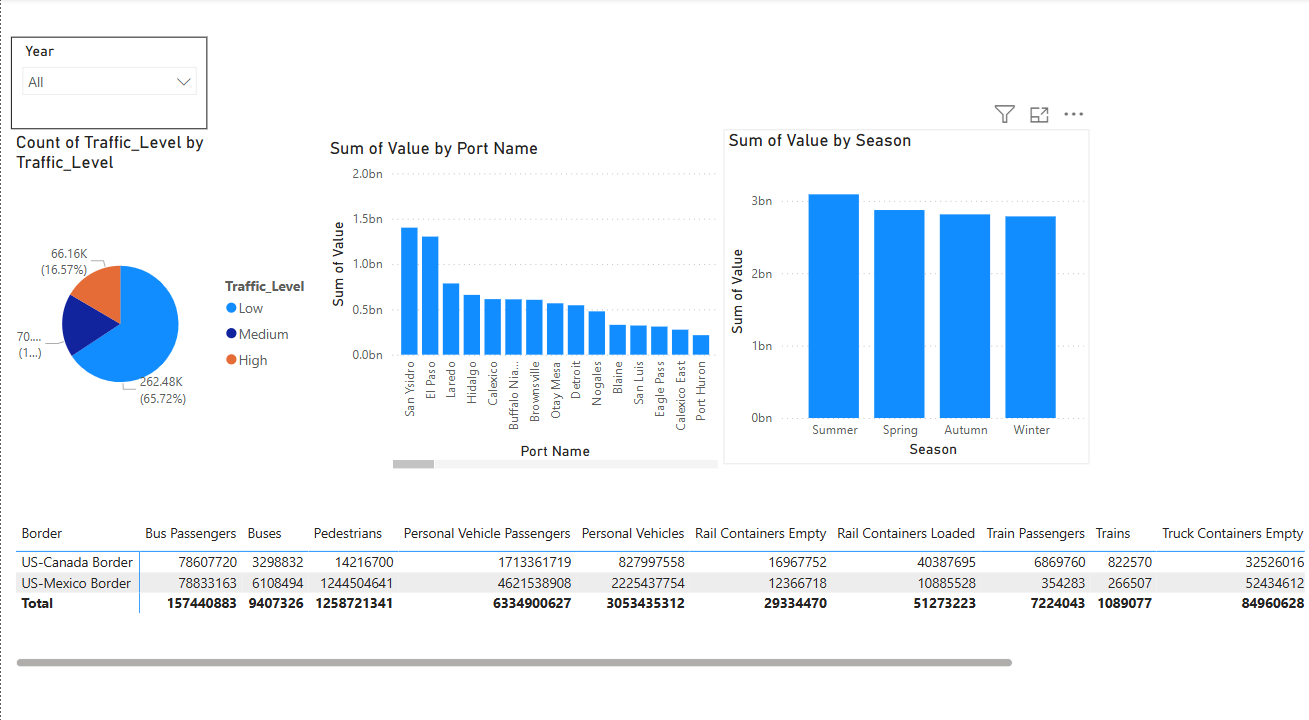

The dashboard page shown, as its layout file describes it:
{"tool":"powerbi","page":{"name":"Page 1","canvas":[1280,720],"ordinal":0},"visuals":[{"type":"pieChart","fields":{"Category":["etl_pipeline border_crossing_data.Traffic_Level"],"Y":["CountNonNull(etl_pipeline border_crossing_data.Traffic_Level)"]},"box":[9.6,130.4,307.4,334.8],"z":0},{"type":"columnChart","fields":{"Category":["etl_pipeline border_crossing_data.Port Name"],"Y":["Sum(etl_pipeline border_crossing_data.Value)"]},"box":[317,137.2,389.7,328],"z":2},{"type":"pivotTable","fields":{"Rows":["etl_pipeline border_crossing_data.Border"],"Columns":["etl_pipeline border_crossing_data.Measure"],"Values":["Sum(etl_pipeline border_crossing_data.Value)"]},"box":[9.6,507.7,1270.7,152.3],"z":3},{"type":"columnChart","fields":{"Category":["etl_pipeline border_crossing_data.Season"],"Y":["Sum(etl_pipeline border_crossing_data.Value)"]},"box":[706.7,129,358.1,326.6],"z":4},{"type":"slicer","fields":{"Values":["etl_pipeline border_crossing_data.Year"]},"box":[9.6,38.4,192.1,90.6],"z":5}]}

Visuals, with their boxes in screenshot pixels (x1, y1, x2, y2), scaled from the page's 1280x720 canvas onto the 1309x720 screenshot:
pieChart - etl_pipeline border_crossing_data.Traffic_Level x CountNonNull(etl_pipeline border_crossing_data.Traffic_Level): x1=10 y1=130 x2=324 y2=465
columnChart - etl_pipeline border_crossing_data.Port Name x Sum(etl_pipeline border_crossing_data.Value): x1=324 y1=137 x2=723 y2=465
pivotTable - etl_pipeline border_crossing_data.Border x etl_pipeline border_crossing_data.Measure: x1=10 y1=508 x2=1308 y2=660
columnChart - etl_pipeline border_crossing_data.Season x Sum(etl_pipeline border_crossing_data.Value): x1=723 y1=129 x2=1089 y2=456
slicer - etl_pipeline border_crossing_data.Year: x1=10 y1=38 x2=206 y2=129
